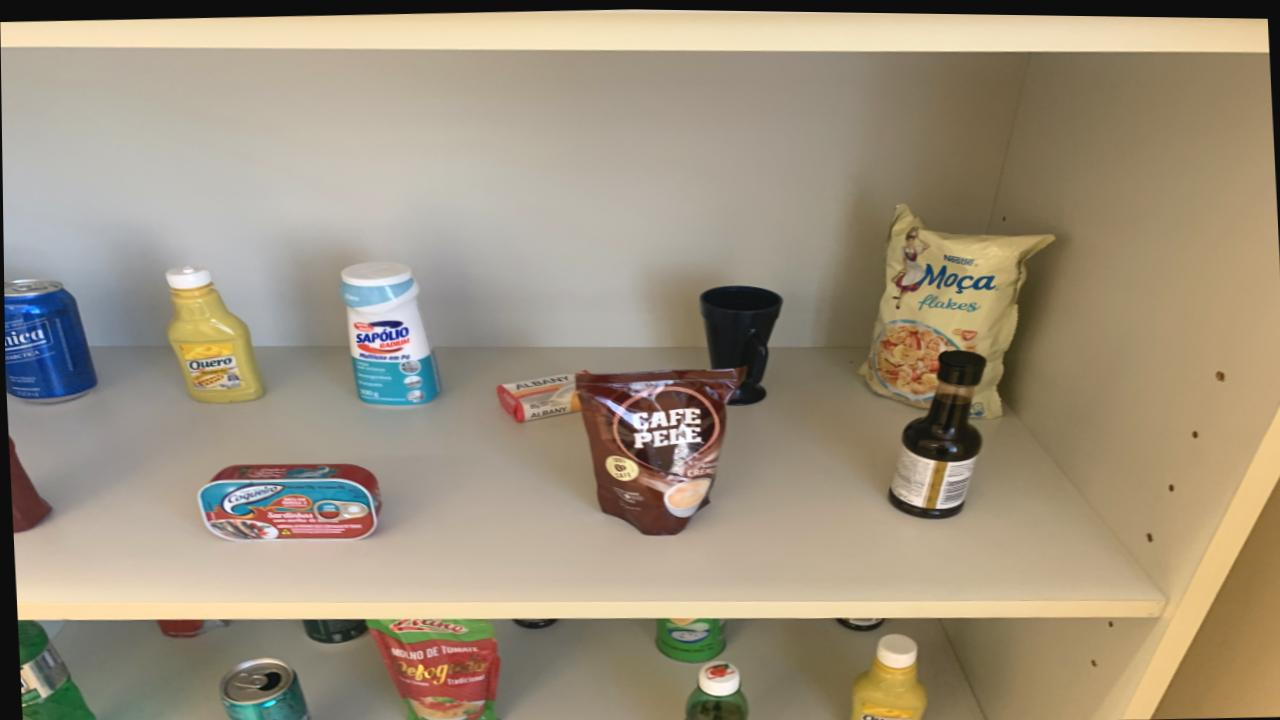Cleaner-Cleanup_Items: (340, 261, 440, 404)
Coffee-Pantry_Items: (574, 365, 744, 533)
Detergent-Cleanup_Items: (16, 620, 93, 720)
English_Sauce-Pantry_Items: (887, 347, 984, 515), (833, 614, 881, 629)
Flakes-Snacks: (857, 202, 1053, 416)
Guarana-Drinks: (682, 658, 746, 720)
Guarana_Can-Drinks: (301, 618, 366, 643)
Mustard-Pantry_Items: (165, 265, 263, 402), (846, 632, 925, 720)
Pringles-Snacks: (654, 616, 724, 661)
Soap-Cleanup_Items: (495, 371, 579, 421)
Tea-Drinks: (219, 658, 311, 720)
Tomato_Sauce-Pantry_Items: (366, 618, 498, 720), (7, 437, 51, 532), (156, 619, 226, 637)
Tonic-Drinks: (3, 278, 95, 402)
Tuna_Can-Pantry_Items: (195, 463, 380, 540)
